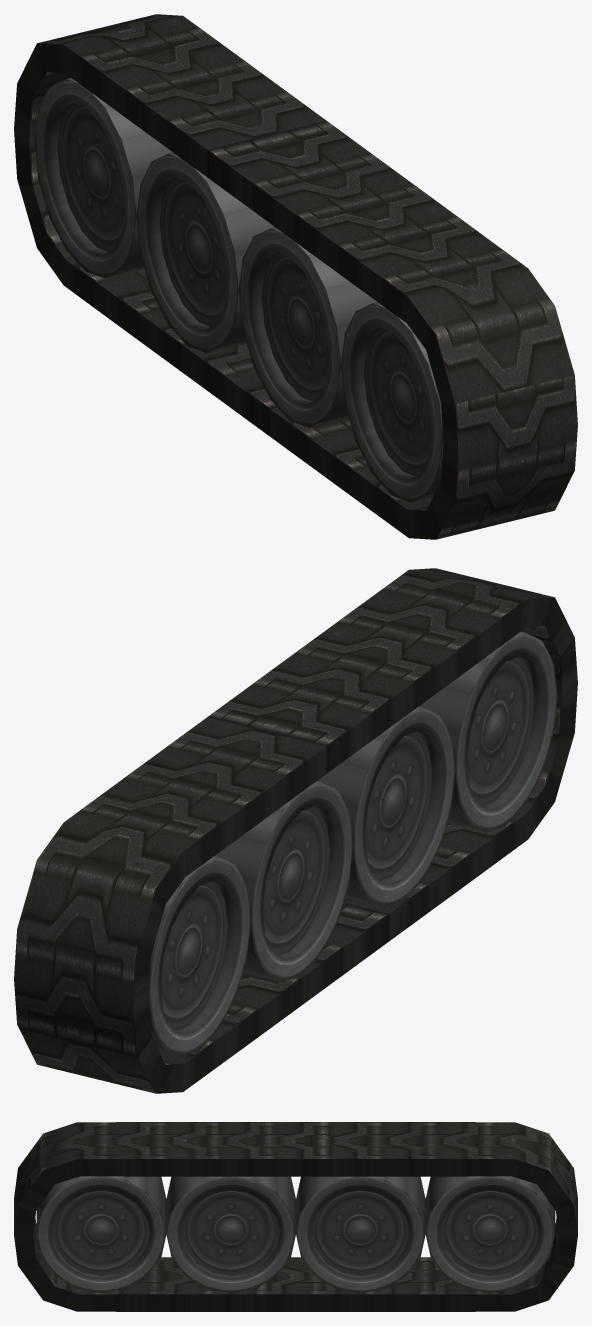
File: caterpillar.fbx
The picture shows the model from 3 angles, top to bottom: view 1: azimuth 30°, elevation 25°; view 2: azimuth 150°, elevation 25°; view 3: azimuth 270°, elevation 25°; orthographic projection. The views are drawn at different scales.
Parts seen in each view (by area): view 1: caterpillar, parts; view 2: caterpillar, parts; view 3: parts, caterpillar.
Part boxes in pixels (box(x1,y1,x2,y2)): caterpillar: box(14, 14, 577, 539); parts: box(34, 77, 443, 502); caterpillar: box(14, 568, 577, 1093); parts: box(148, 632, 557, 1056); parts: box(36, 1176, 555, 1292); caterpillar: box(14, 1122, 577, 1311).
Size of the model in its own units: 54.53 by 105 by 352.
